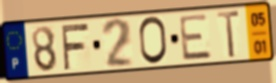2: (100, 17, 136, 70)
8: (30, 24, 59, 73)
E: (177, 12, 214, 62)
F: (59, 21, 91, 72)
O: (137, 15, 169, 67)
T: (216, 9, 242, 60)
